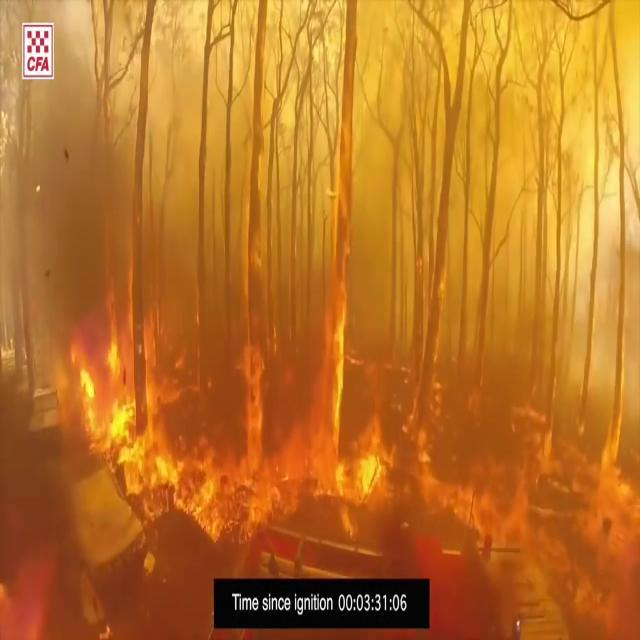Fire: (54, 270, 405, 566), (448, 385, 640, 588)
Smoke: (14, 1, 636, 374)
